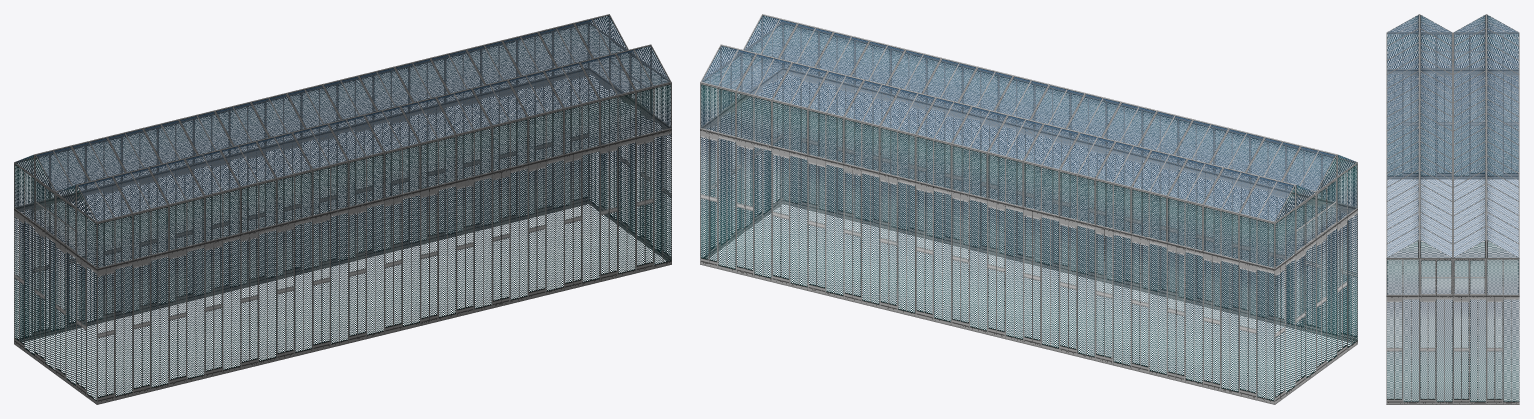
The model's file is kas_mod2_1a.fbx.
The picture shows the model from 3 angles, left to right: view 1: azimuth 30°, elevation 25°; view 2: azimuth 150°, elevation 25°; view 3: azimuth 270°, elevation 25°; orthographic projection. The views are drawn at different scales.
Visible parts, largest first — view 1: kas_mod2_1a; view 2: kas_mod2_1a; view 3: kas_mod2_1a.
Part boxes in pixels (<box>): kas_mod2_1a: <box>14,14,671,404</box>; kas_mod2_1a: <box>700,14,1357,404</box>; kas_mod2_1a: <box>1386,14,1519,404</box>.
Size of the model in its own units: 4000 by 1364 by 1000.
